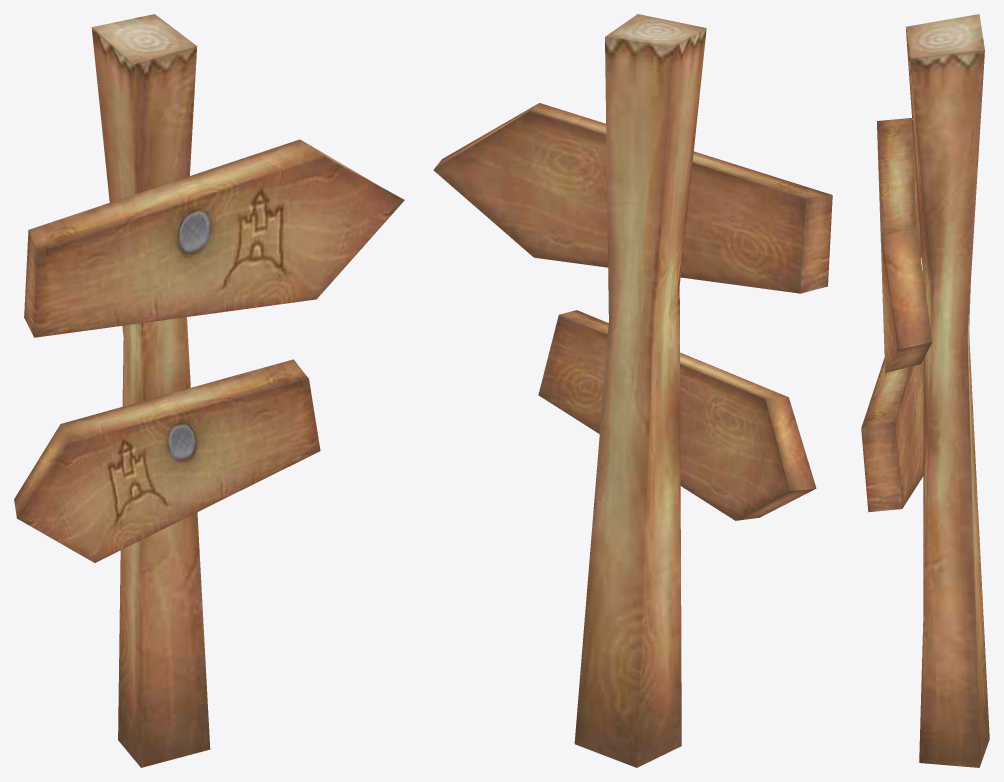
The model's file is Signpost1.gltf.
3 renders of one model, left to right at view 1: azimuth 30°, elevation 25°; view 2: azimuth 150°, elevation 25°; view 3: azimuth 270°, elevation 25°, orthographic. The views are drawn at different scales.
Visible parts, largest first — view 1: sign; view 2: sign; view 3: sign.
Boxes of the visible parts, bbox=[...] form: sign: bbox=[14, 14, 404, 767]; sign: bbox=[433, 14, 832, 767]; sign: bbox=[861, 14, 989, 767].
Size of the model in its own units: 2.19 by 3.98 by 0.6523.
1 material, 1 textured.
